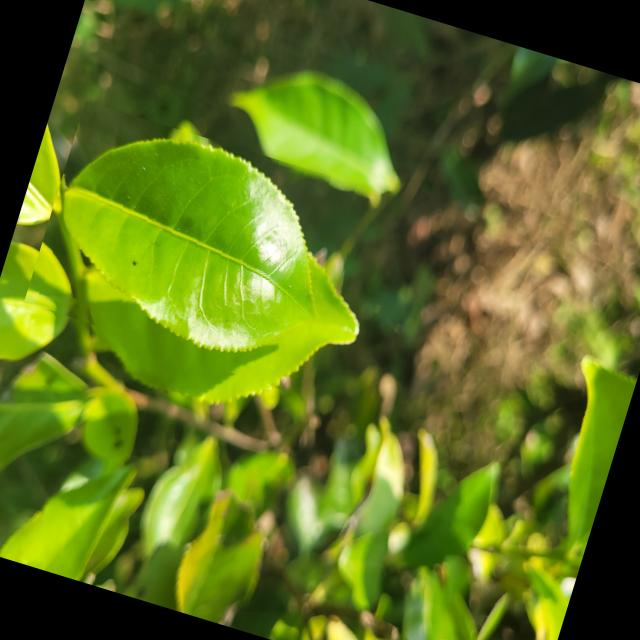Catagory A(1-2 days): (19, 100, 368, 398)
